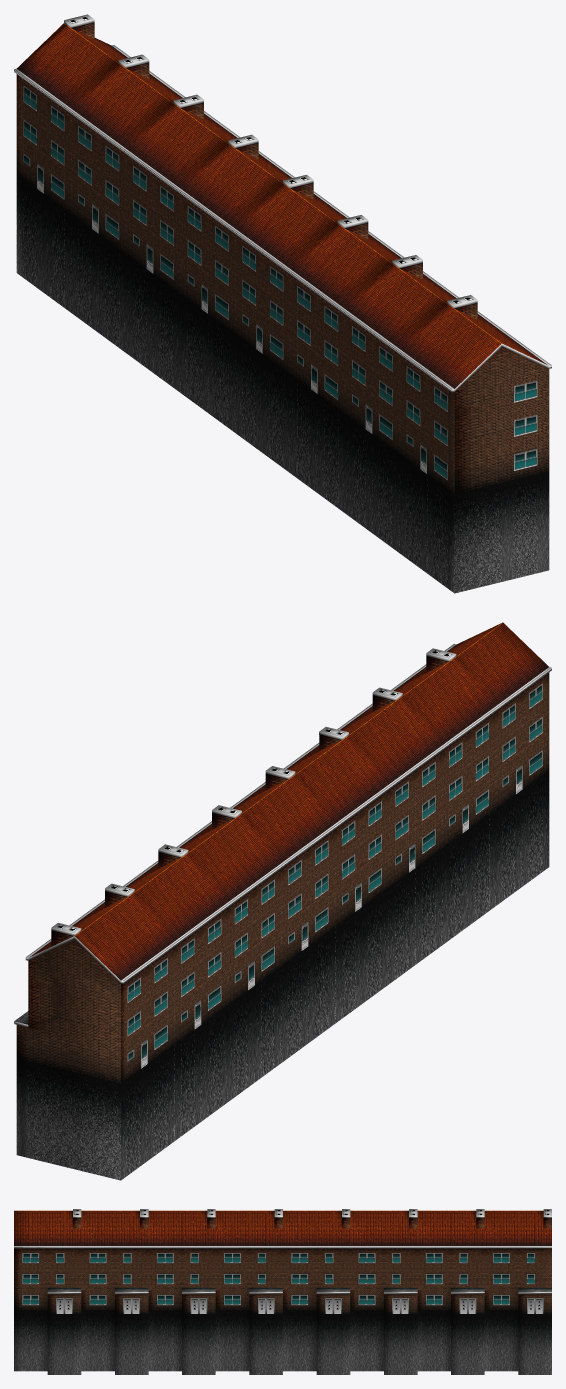
Rendered from maisonet_mod2_4a.fbx.
3 renders of one model, top to bottom at view 1: azimuth 30°, elevation 25°; view 2: azimuth 150°, elevation 25°; view 3: azimuth 270°, elevation 25°, orthographic. The views are drawn at different scales.
Parts seen in each view (by area): view 1: maisonet_mod2_4a; view 2: maisonet_mod2_4a; view 3: maisonet_mod2_4a.
Part boxes in pixels (box(x1,y1,x2,y2)): maisonet_mod2_4a: box(14, 14, 551, 593); maisonet_mod2_4a: box(14, 622, 551, 1180); maisonet_mod2_4a: box(14, 1209, 551, 1374).
Bounding box in the file's own units: 1062 × 2188 × 7200.
